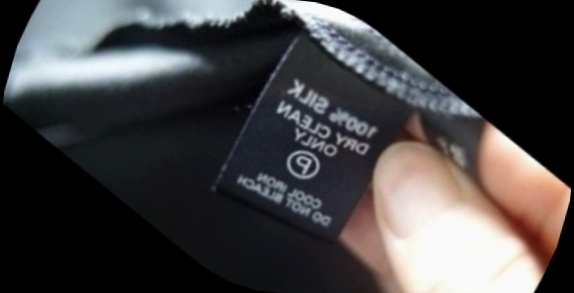dry_clean_any_solvent_except_trichloroethylene: (269, 130, 336, 196)
